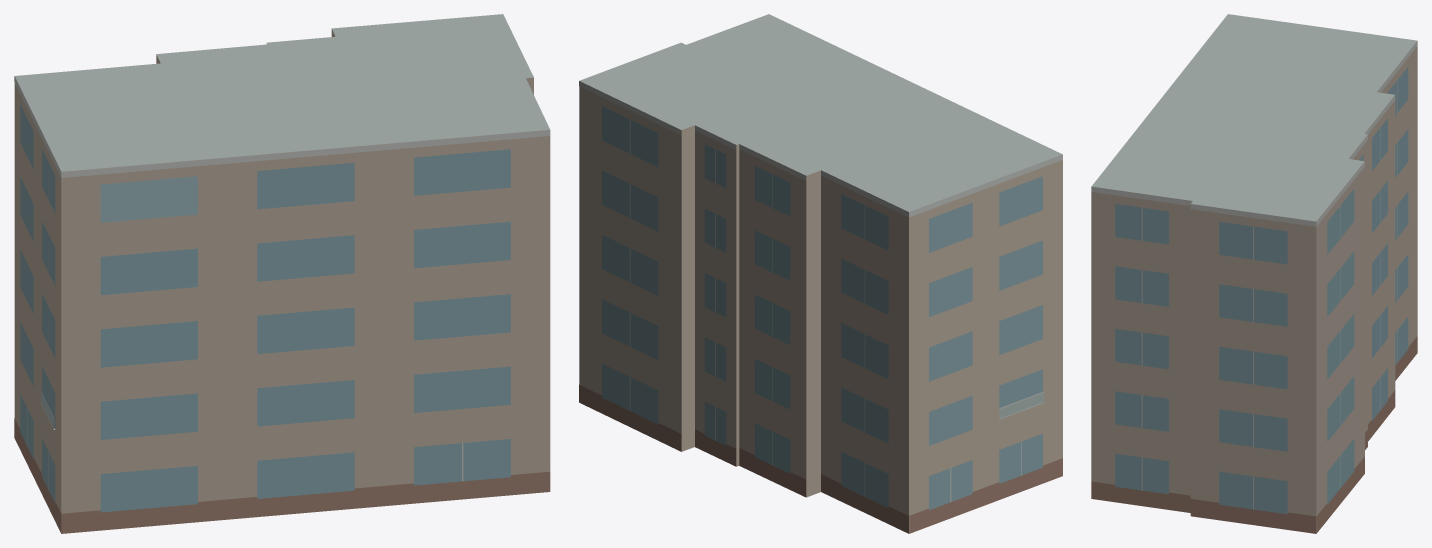
File: survey-upis-32654701.glb
3 renders of one model, left to right at view 1: azimuth 30°, elevation 25°; view 2: azimuth 150°, elevation 25°; view 3: azimuth 270°, elevation 25°, orthographic. The views are drawn at different scales.
Parts seen in each view (by area): view 1: survey-upis-32654701.tmp; view 2: survey-upis-32654701.tmp; view 3: survey-upis-32654701.tmp.
Boxes of the visible parts, left/top/right/bottom form: survey-upis-32654701.tmp: left=14, top=14, right=550, bottom=533; survey-upis-32654701.tmp: left=579, top=14, right=1062, bottom=533; survey-upis-32654701.tmp: left=1091, top=14, right=1417, bottom=533.
Bounding box in the file's own units: 20.53 × 14.4 × 13.64.
